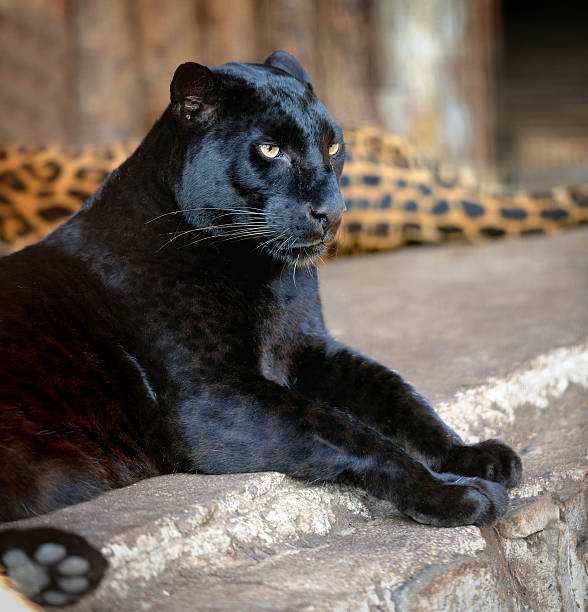panther: (156, 43, 356, 281)
